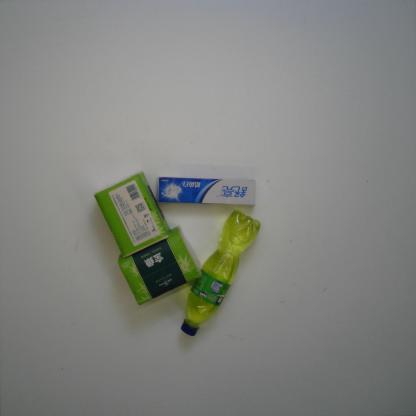Drink: (180, 209, 262, 337)
Personal Hygiene: (157, 176, 257, 206)
Tissue: (93, 171, 171, 259), (118, 226, 202, 306)
